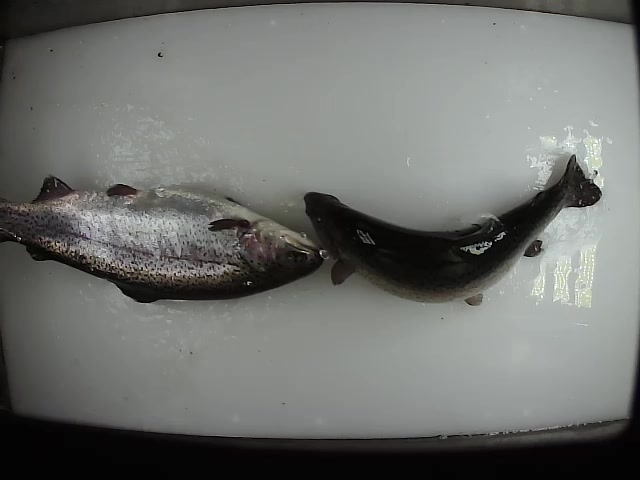Fish: (304, 154, 602, 306), (1, 173, 322, 302)
